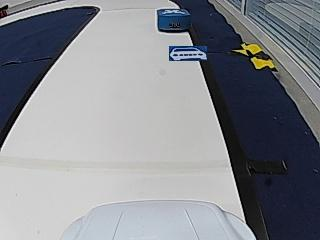prop: (157, 9, 191, 32)
